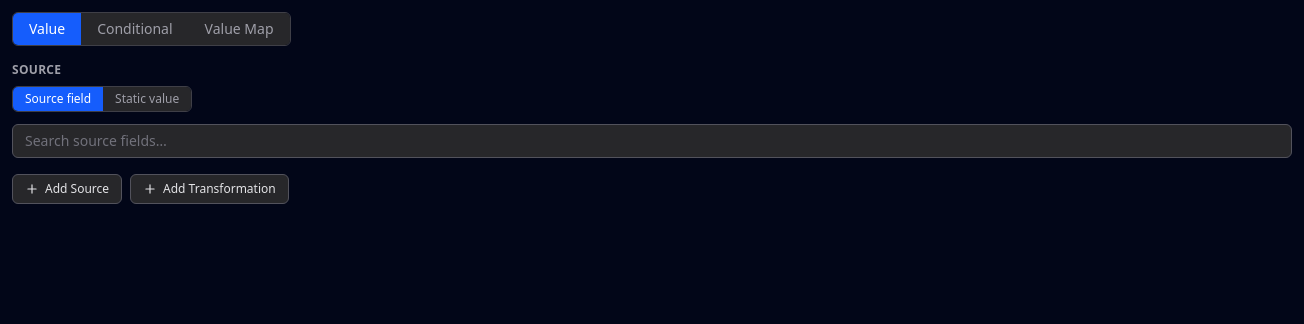
Test: T-09 — Source Card builder area › does not render source-card-builder in value map mode
Click the tab with test id "mode-tab-valueMap" at (239, 29), box [189,13,290,45]
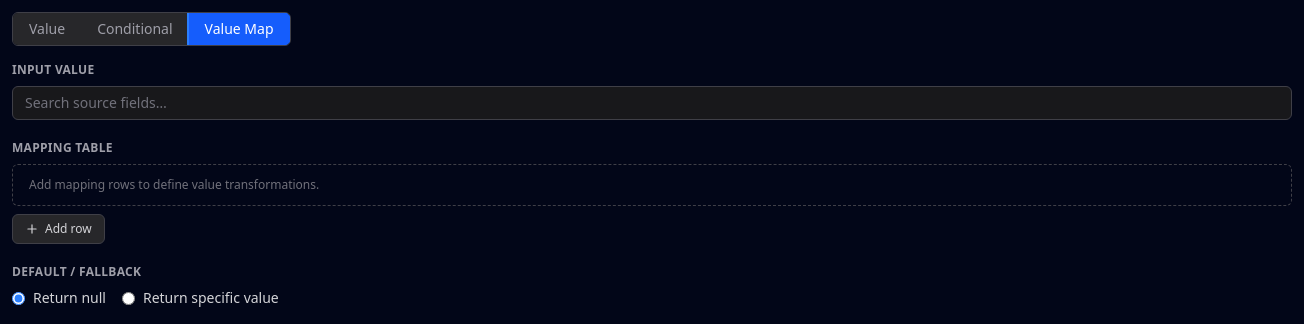
Now the element with test id "source-card-builder" is gone
